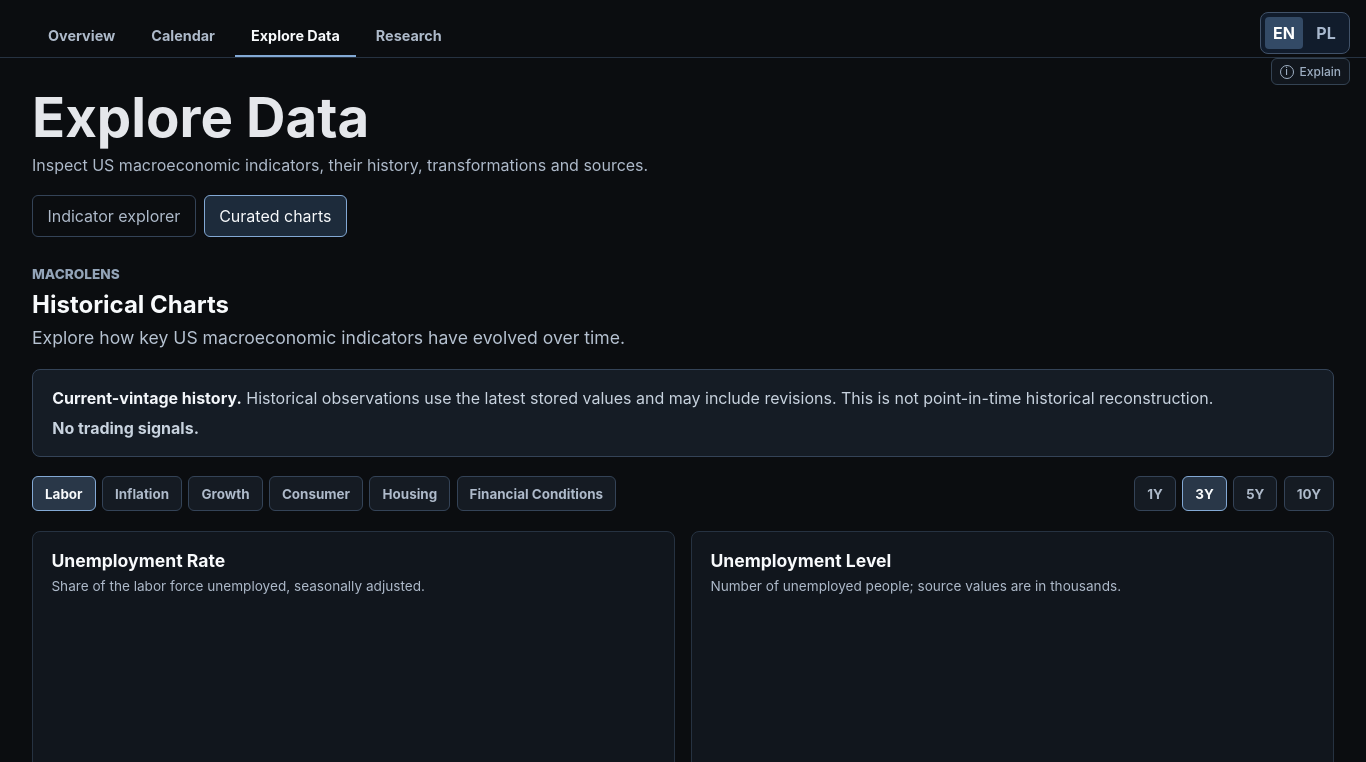
Charts v1 › navigation opens Charts and browser history returns to Overview
Check: the heading "Historical Charts" is shown, box [32,290,229,319]
Click the link "Overview": click(82, 36) [48,27,115,44]
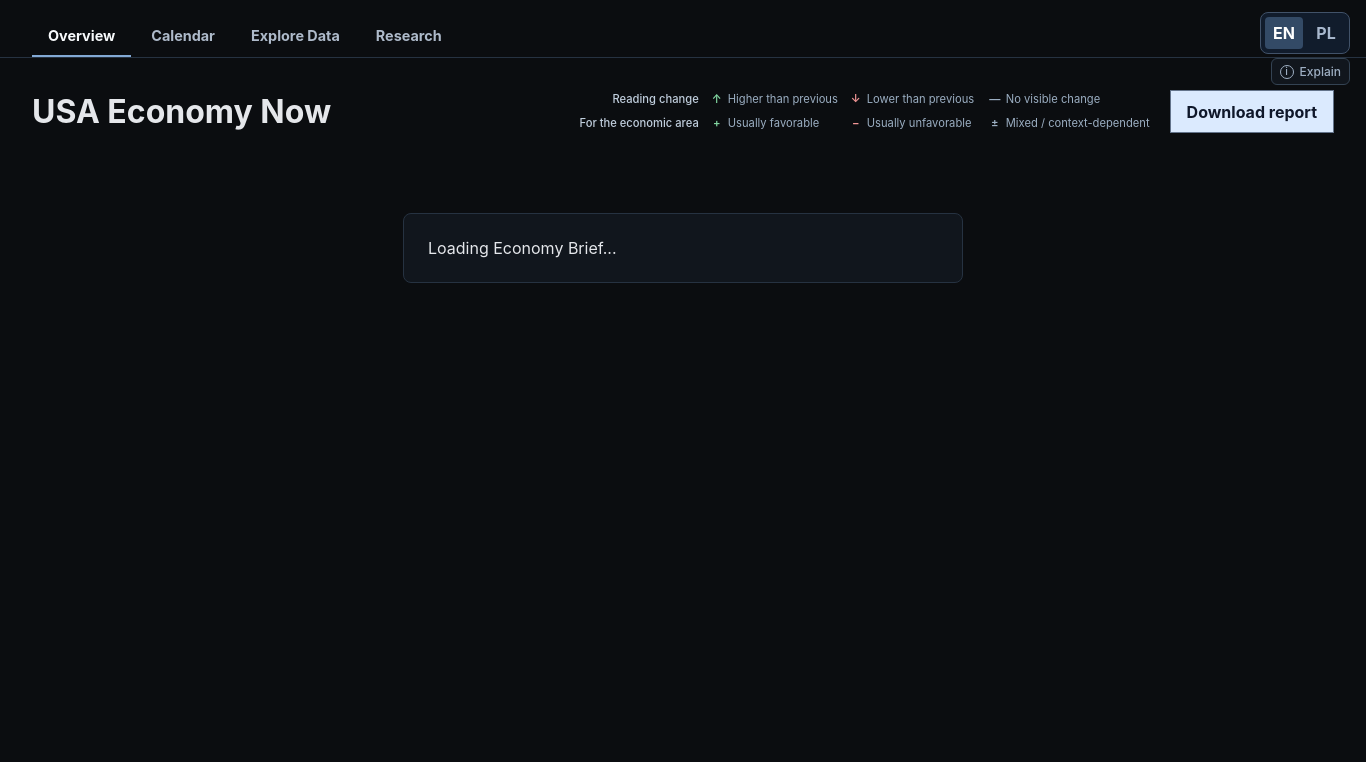
Check: the text "Loading Economy Brief..." is shown, box [403,213,963,283]
